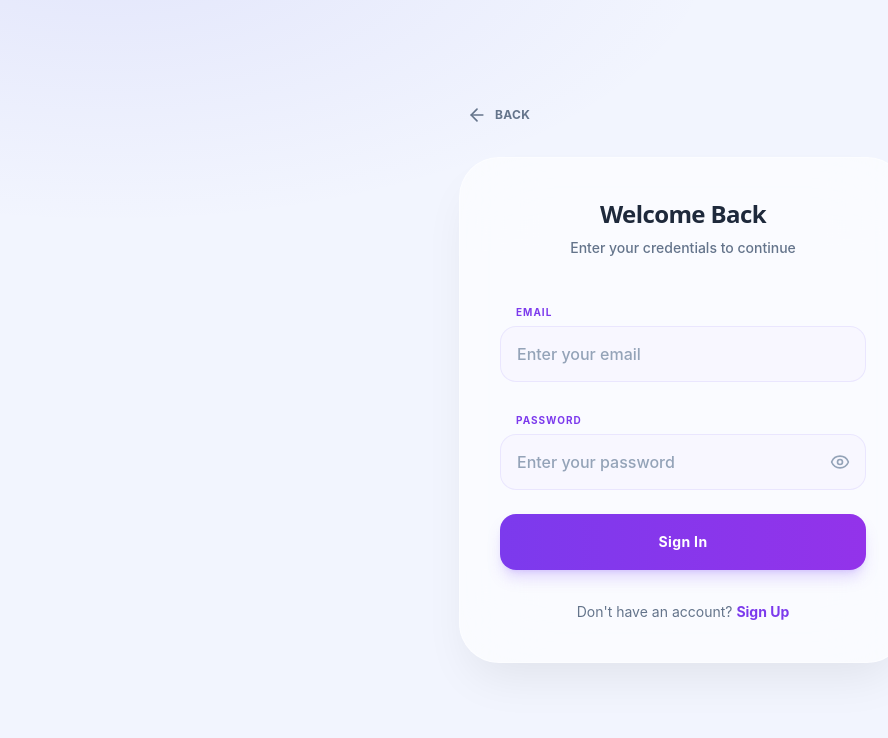
Test: AuthForm › toggles password visibility and sign-up flow
The image size is (888, 738).
Step 1. Click the button named "Show password" → point(840, 462), box [830, 452, 850, 472]
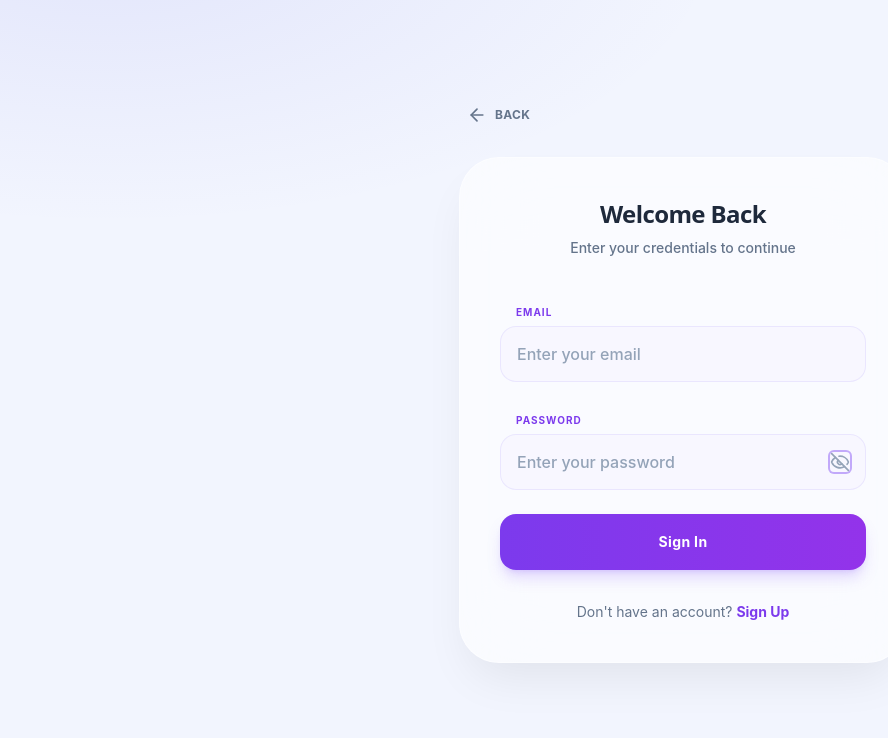
Step 2. Click the button with aria-label "Switch to sign up" → point(763, 612), box [736, 602, 789, 622]
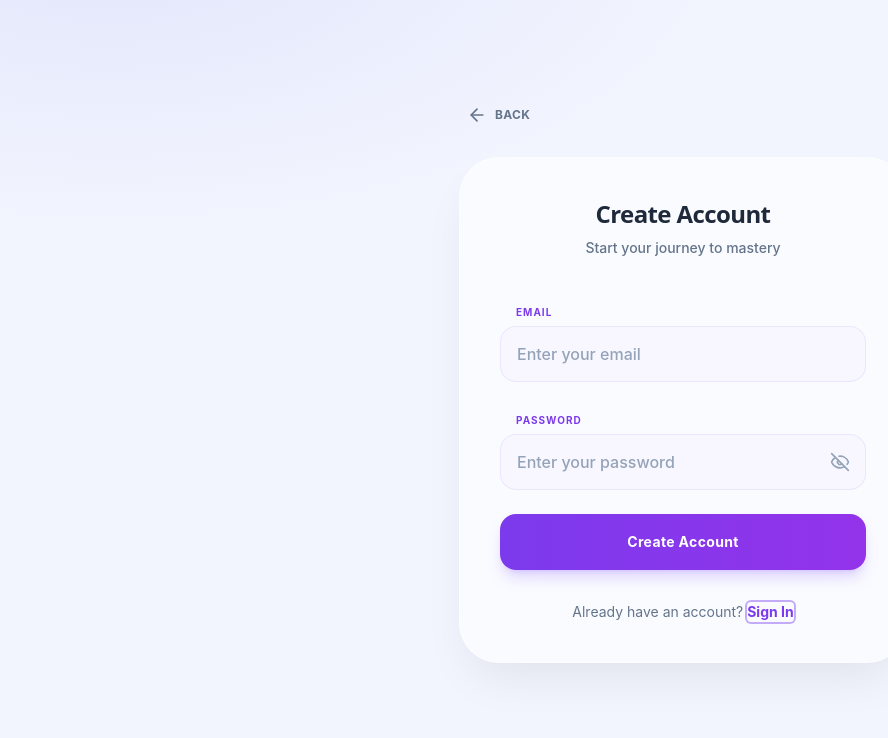
Now the heading "Create Account" is shown, box [596, 197, 770, 230]
Step 3. Type "new@example.com" into the field with placeholder "Enter your email" → point(683, 354), box [500, 326, 866, 382]
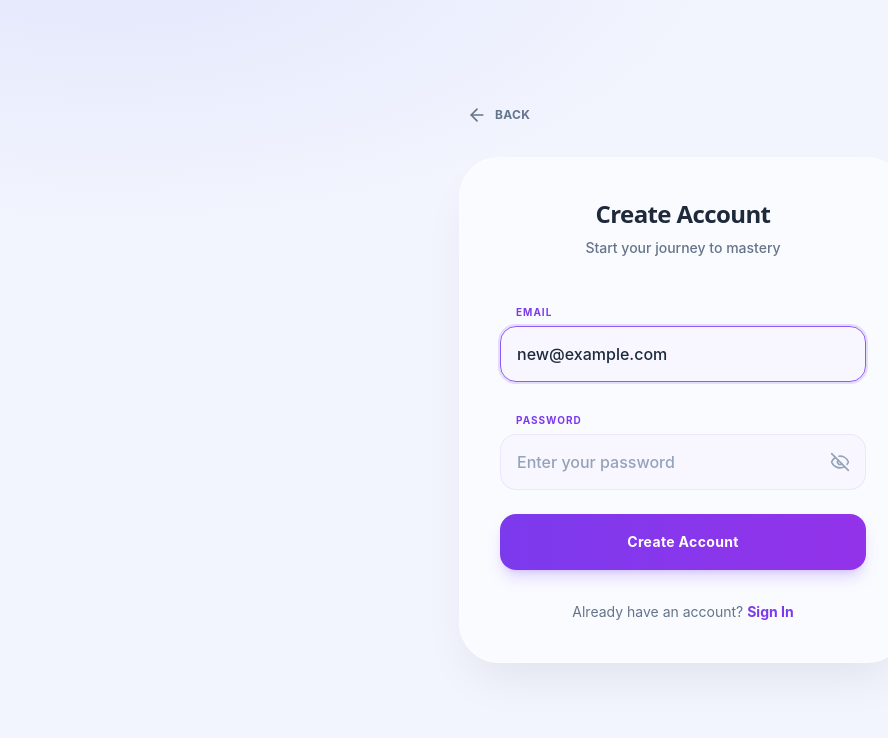
Step 4. Type "newpass123" into the field with placeholder "Enter your password" → point(683, 462), box [500, 434, 866, 490]
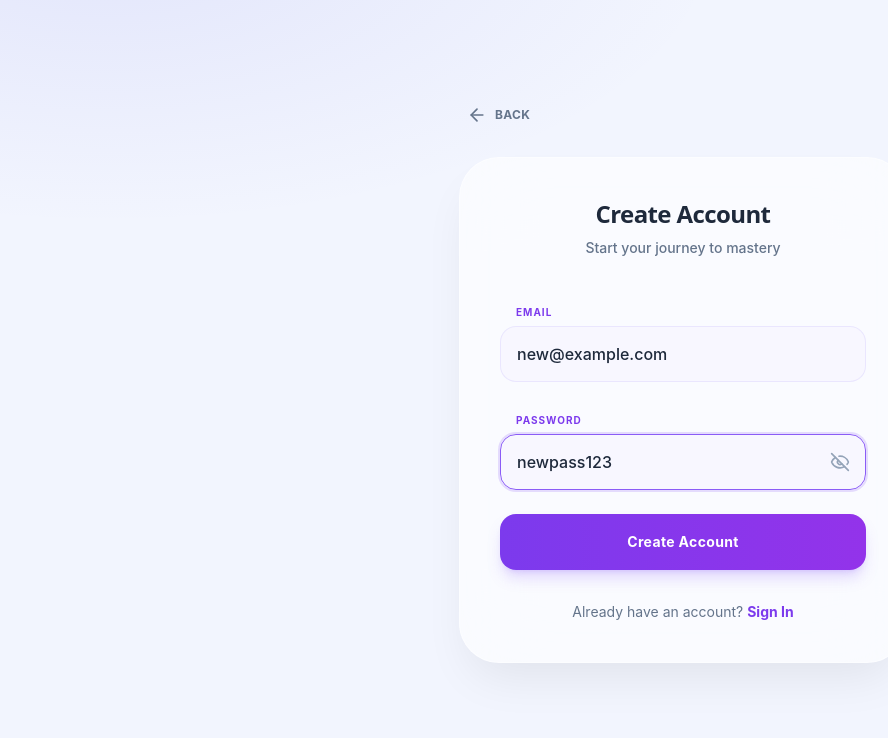
Step 5. Click the button "Create Account" → point(683, 542), box [500, 514, 866, 570]
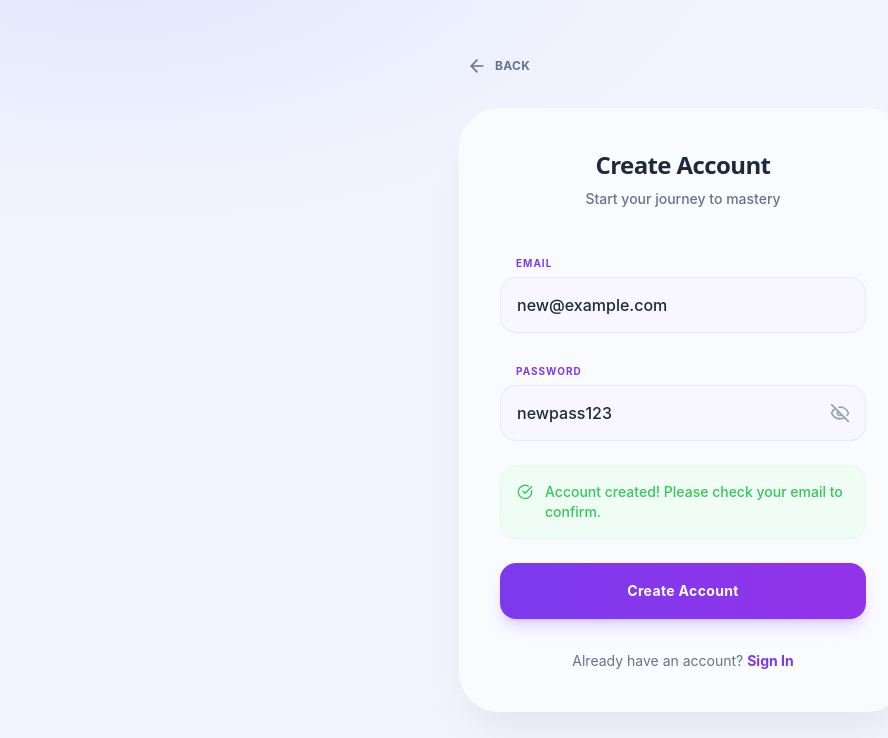
Now the text "Account created! Please check your email to confirm." is shown, box [545, 482, 849, 522]
